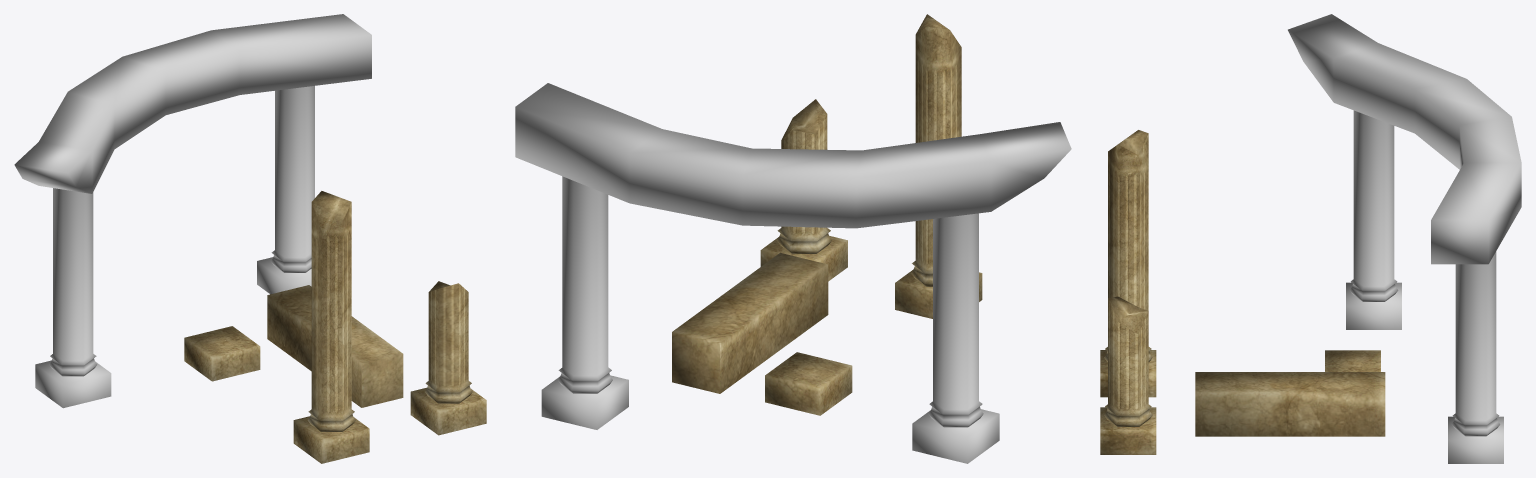
File: RomanPillars.fbx
The picture shows the model from 3 angles, left to right: view 1: azimuth 30°, elevation 25°; view 2: azimuth 150°, elevation 25°; view 3: azimuth 270°, elevation 25°; orthographic projection. The views are drawn at different scales.
Visible parts, largest first — view 1: Cube.002; view 2: Cube.002; view 3: Cube.002.
Boxes of the visible parts, box(x1,y1,x2,y2) form: Cube.002: box(14, 14, 486, 463); Cube.002: box(515, 14, 1071, 463); Cube.002: box(1100, 14, 1521, 463).
Size of the model in its own units: 19.41 by 11.96 by 17.25.
